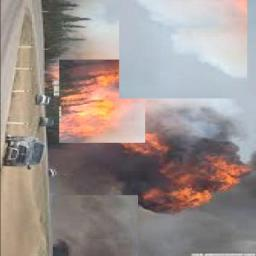Heavy smoke: (118, 0, 245, 101), (50, 192, 140, 254), (43, 0, 118, 59)
Medium fire: (110, 129, 255, 223), (61, 60, 120, 139)
